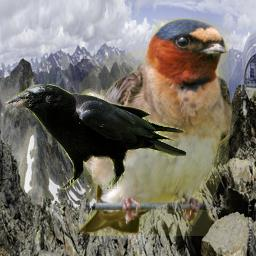Crow: (4, 84, 186, 189)
Swallow: (77, 18, 237, 236)
